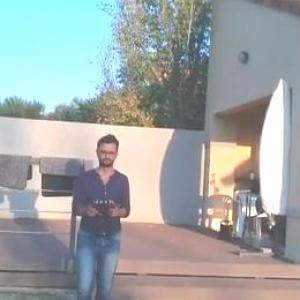follow: (63, 126, 135, 299)
